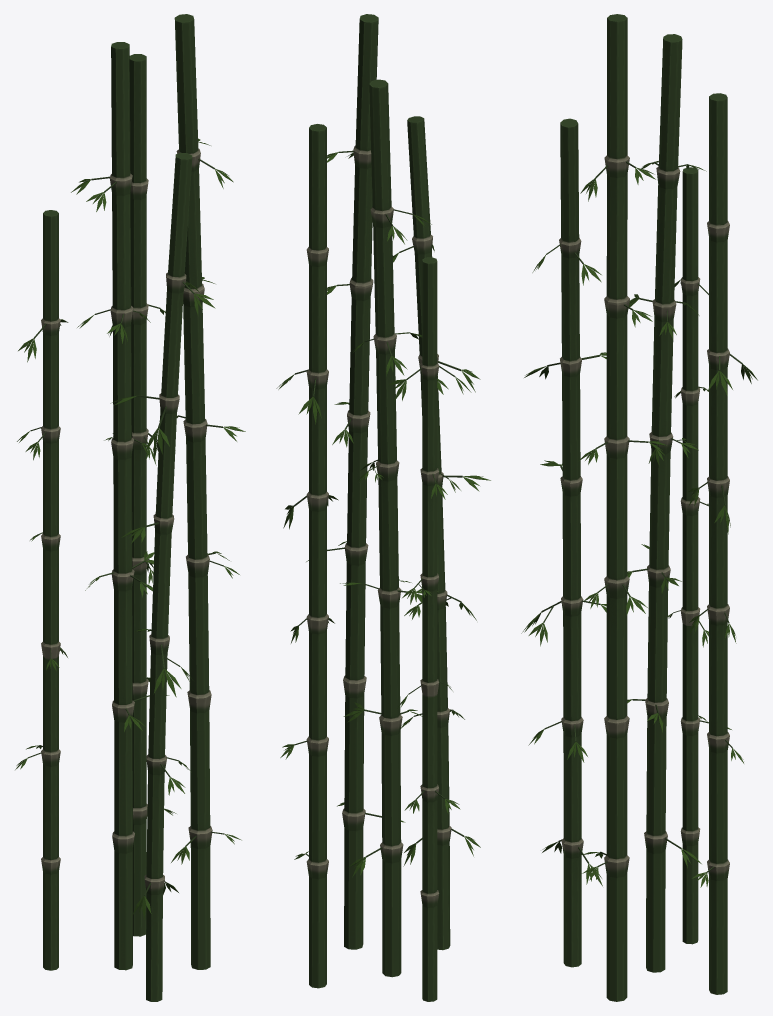
The model's file is bamboo_4.gltf.
3 renders of one model, left to right at view 1: azimuth 30°, elevation 25°; view 2: azimuth 150°, elevation 25°; view 3: azimuth 270°, elevation 25°, orthographic. The views are drawn at different scales.
Visible parts, largest first — view 1: node-0; view 2: node-0; view 3: node-0.
Boxes of the visible parts, box(x1,y1,x2,y2) form: node-0: box(15, 14, 245, 1001); node-0: box(276, 14, 490, 1001); node-0: box(521, 14, 757, 1001).
Size of the model in its own units: 1.09 by 5.37 by 1.2.
1 material, 1 textured.
